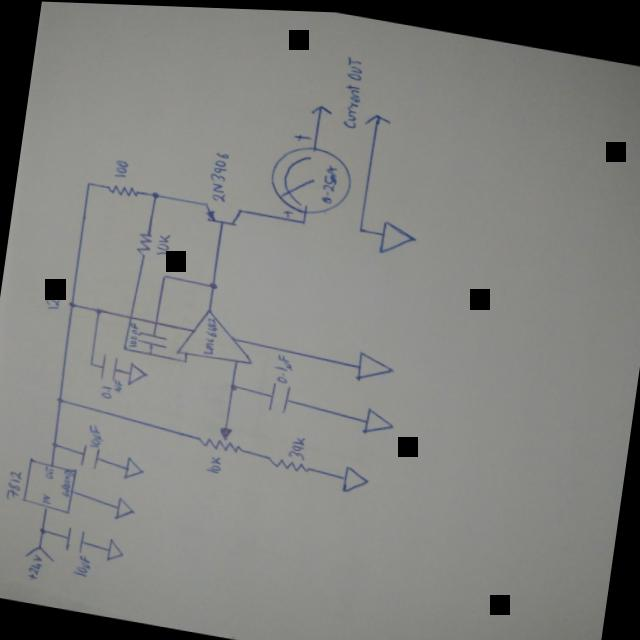capacitor: (266, 379, 294, 413), (136, 328, 170, 347), (64, 525, 86, 554), (79, 443, 102, 469), (99, 352, 119, 381)
crossover: (150, 316, 163, 326), (126, 311, 136, 320)
ground: (376, 216, 421, 257), (354, 346, 398, 384), (361, 403, 397, 436), (340, 462, 371, 494), (121, 454, 146, 482), (126, 359, 150, 388), (112, 495, 137, 522), (104, 536, 126, 563)
junction: (148, 187, 162, 200), (207, 278, 219, 289), (66, 297, 78, 308), (92, 305, 105, 315), (54, 394, 66, 404), (82, 178, 94, 188), (228, 380, 240, 389), (49, 439, 60, 448), (37, 526, 48, 535), (297, 214, 308, 223), (120, 344, 130, 351), (356, 223, 366, 230), (160, 271, 168, 279), (146, 349, 154, 356), (181, 356, 189, 363), (88, 359, 94, 366)
resistor: (197, 419, 246, 454), (266, 453, 312, 472), (105, 180, 142, 198), (134, 227, 154, 257)
terminal: (24, 544, 56, 563), (363, 108, 392, 126), (310, 101, 333, 115)
text: (338, 52, 368, 127), (205, 147, 234, 202), (270, 351, 296, 383), (320, 161, 340, 202), (3, 469, 24, 501), (202, 315, 219, 354), (98, 376, 124, 401), (42, 284, 64, 312), (25, 553, 46, 582), (286, 432, 308, 458), (72, 553, 94, 578), (85, 422, 106, 448), (154, 229, 172, 257), (112, 156, 132, 179), (58, 468, 74, 496), (127, 321, 142, 348), (204, 452, 223, 473), (43, 465, 56, 479), (40, 492, 51, 503)
transistor: (200, 199, 247, 227)
